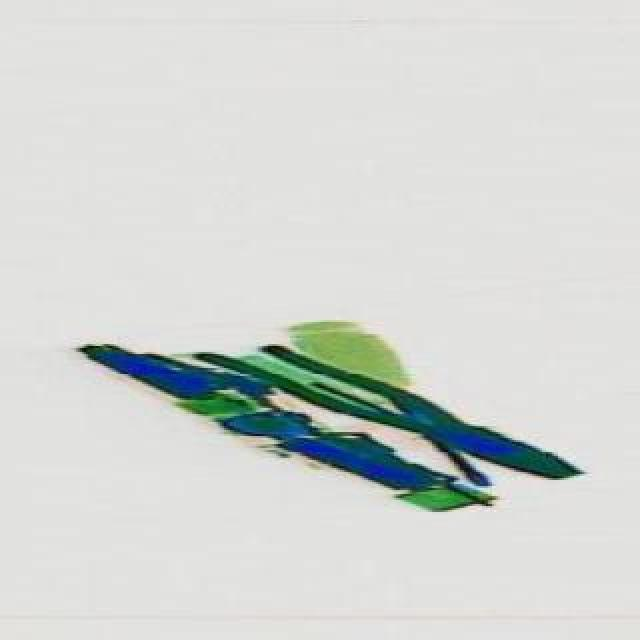wrench: (200, 314, 596, 502)
